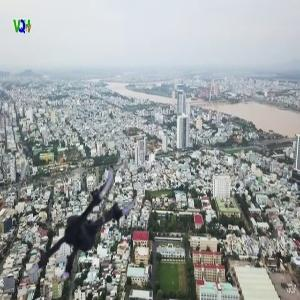drone: (7, 154, 142, 289)
